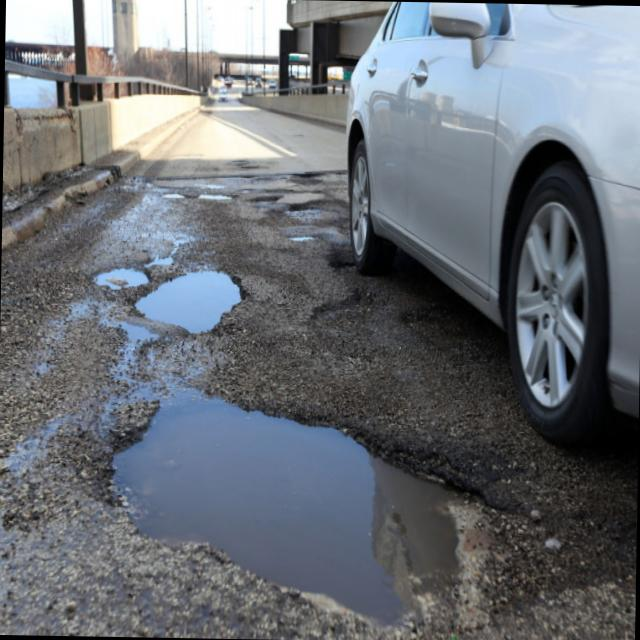Potholes: (91, 334, 639, 640), (303, 115, 606, 368), (132, 261, 254, 353), (92, 246, 165, 300), (280, 188, 352, 226), (248, 186, 287, 214)
